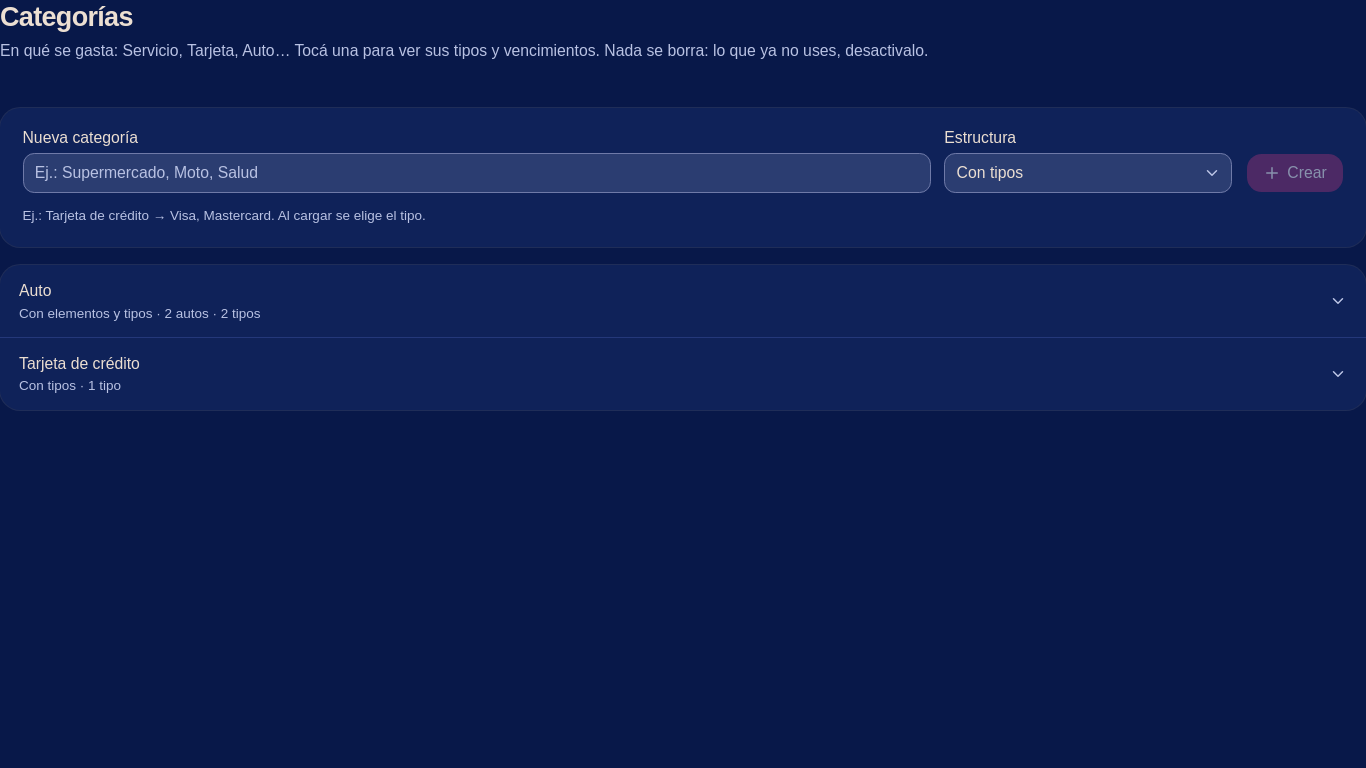
Scenario: Administración de categorías › marca los tipos con vencimiento y permite programarlo desde la etiqueta
This screenshot has width=1366, height=768.
Click the button "Tarjeta de crédito Con tipos · 1 tipo": click(79, 363) [18, 338, 1348, 410]
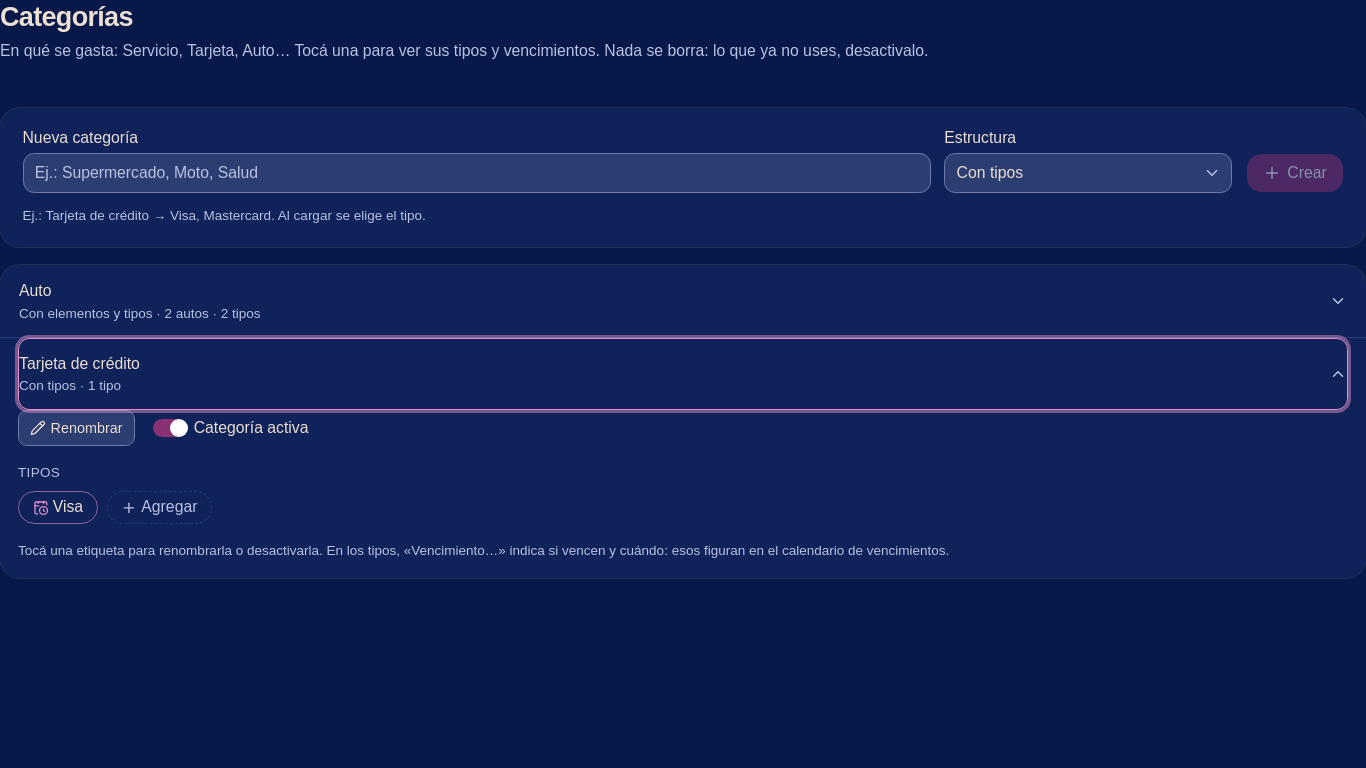
Click the button with aria-label "Visa (con vencimiento): opciones": click(58, 508) [18, 491, 98, 524]
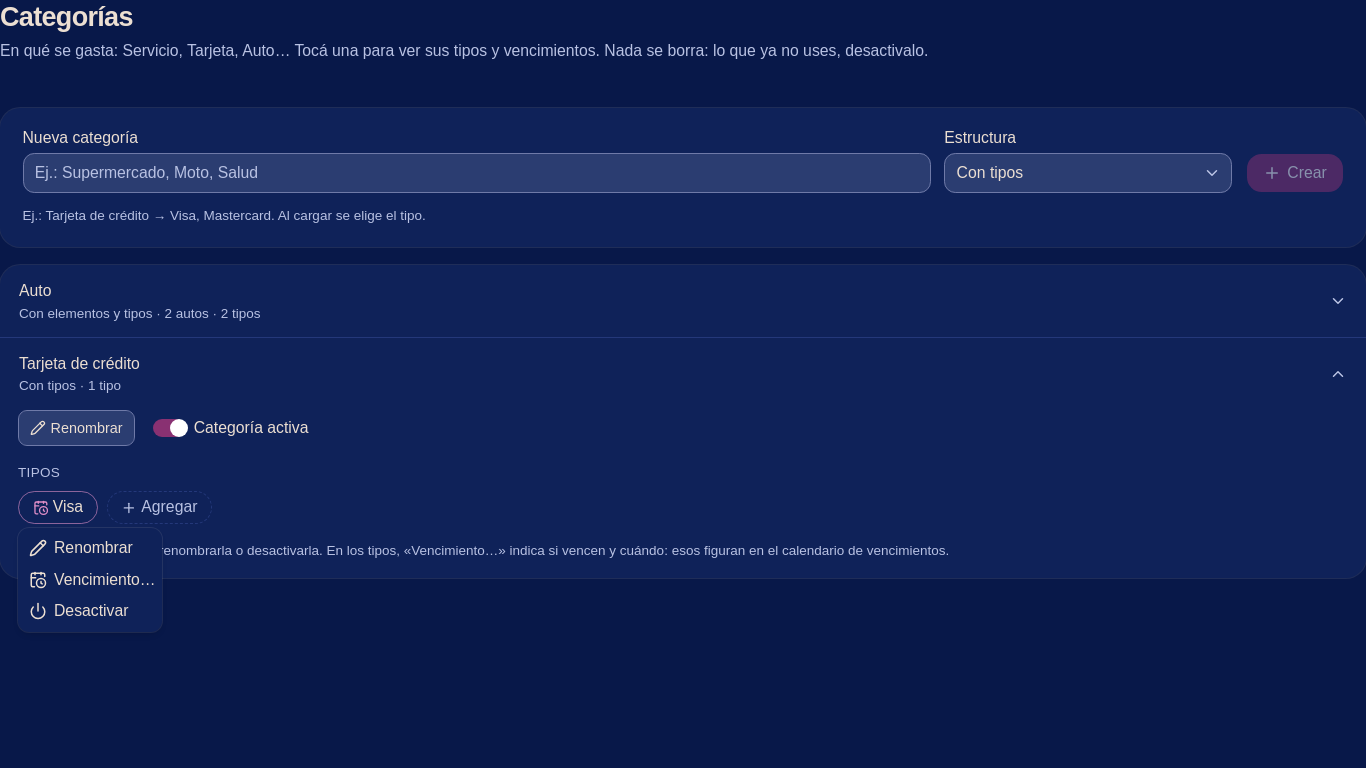
Click the menu item "Vencimiento…": click(92, 580) [29, 570, 156, 589]
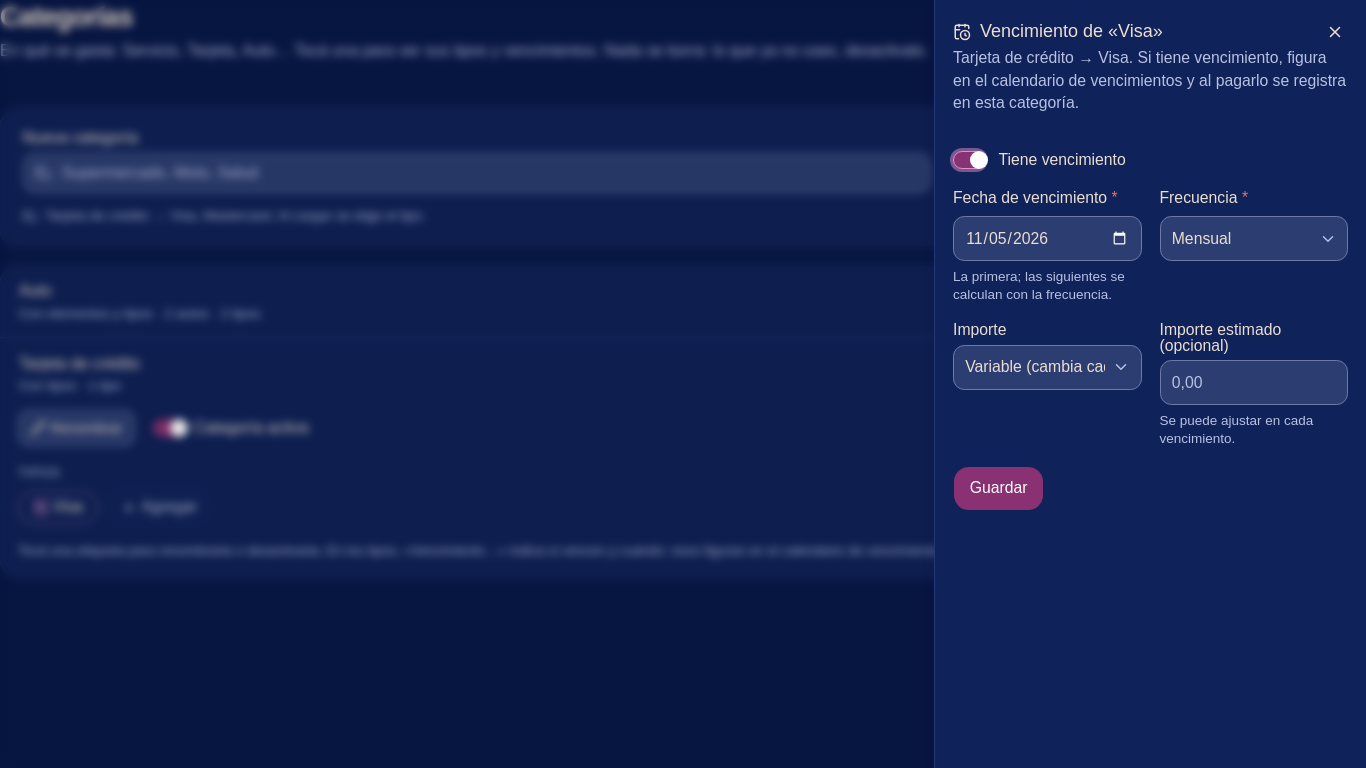
Expected: the dialog "Vencimiento de «Visa»" is shown, [934, 0, 1365, 767]
Expected: the switch named "Tiene vencimiento" is checked, [953, 151, 985, 169]
Expected: the date field labelled "Fecha de vencimiento" holds "2026-11-05", [953, 216, 1142, 261]
